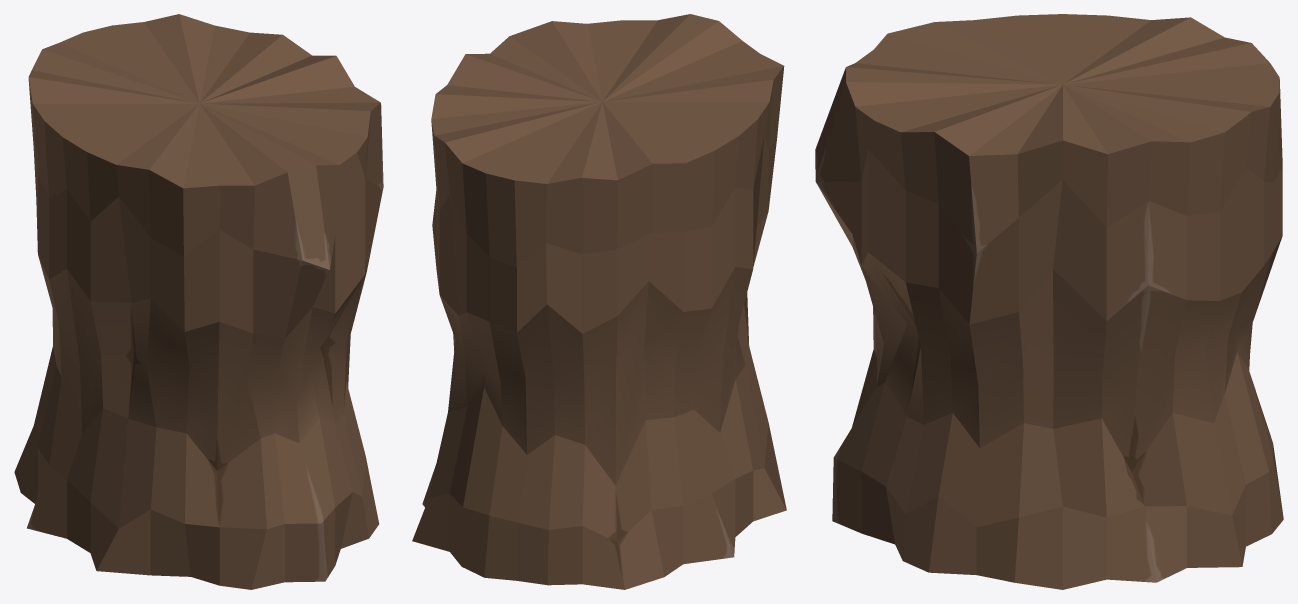
File: Wall01.fbx
The picture shows the model from 3 angles, left to right: view 1: azimuth 30°, elevation 25°; view 2: azimuth 150°, elevation 25°; view 3: azimuth 270°, elevation 25°; orthographic projection. The views are drawn at different scales.
Parts seen in each view (by area): view 1: pCylinder4; view 2: pCylinder4; view 3: pCylinder4.
Part boxes in pixels (x1,y1,x2,y2): pCylinder4: [14, 14, 383, 589]; pCylinder4: [412, 14, 786, 589]; pCylinder4: [815, 14, 1283, 589].
Size of the model in its own units: 7.63 by 10.07 by 9.66.
